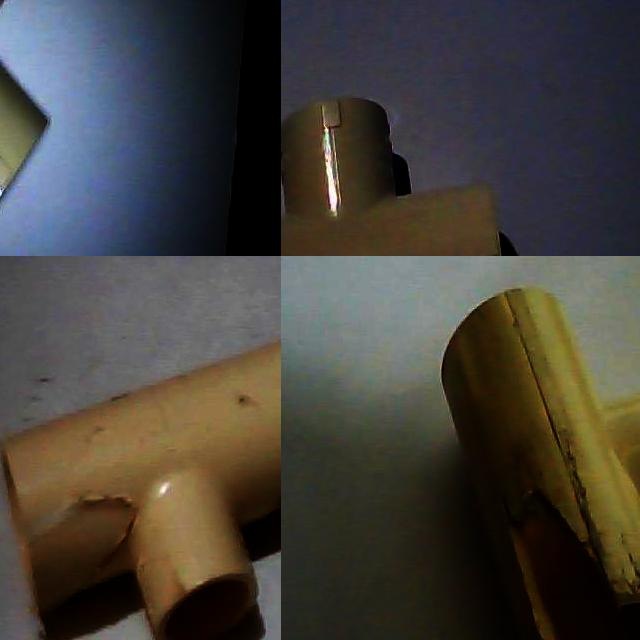Defective: (503, 488, 623, 640), (503, 490, 624, 640), (30, 478, 143, 616)
T Joint: (0, 341, 281, 640), (440, 288, 640, 640), (281, 97, 508, 256)
